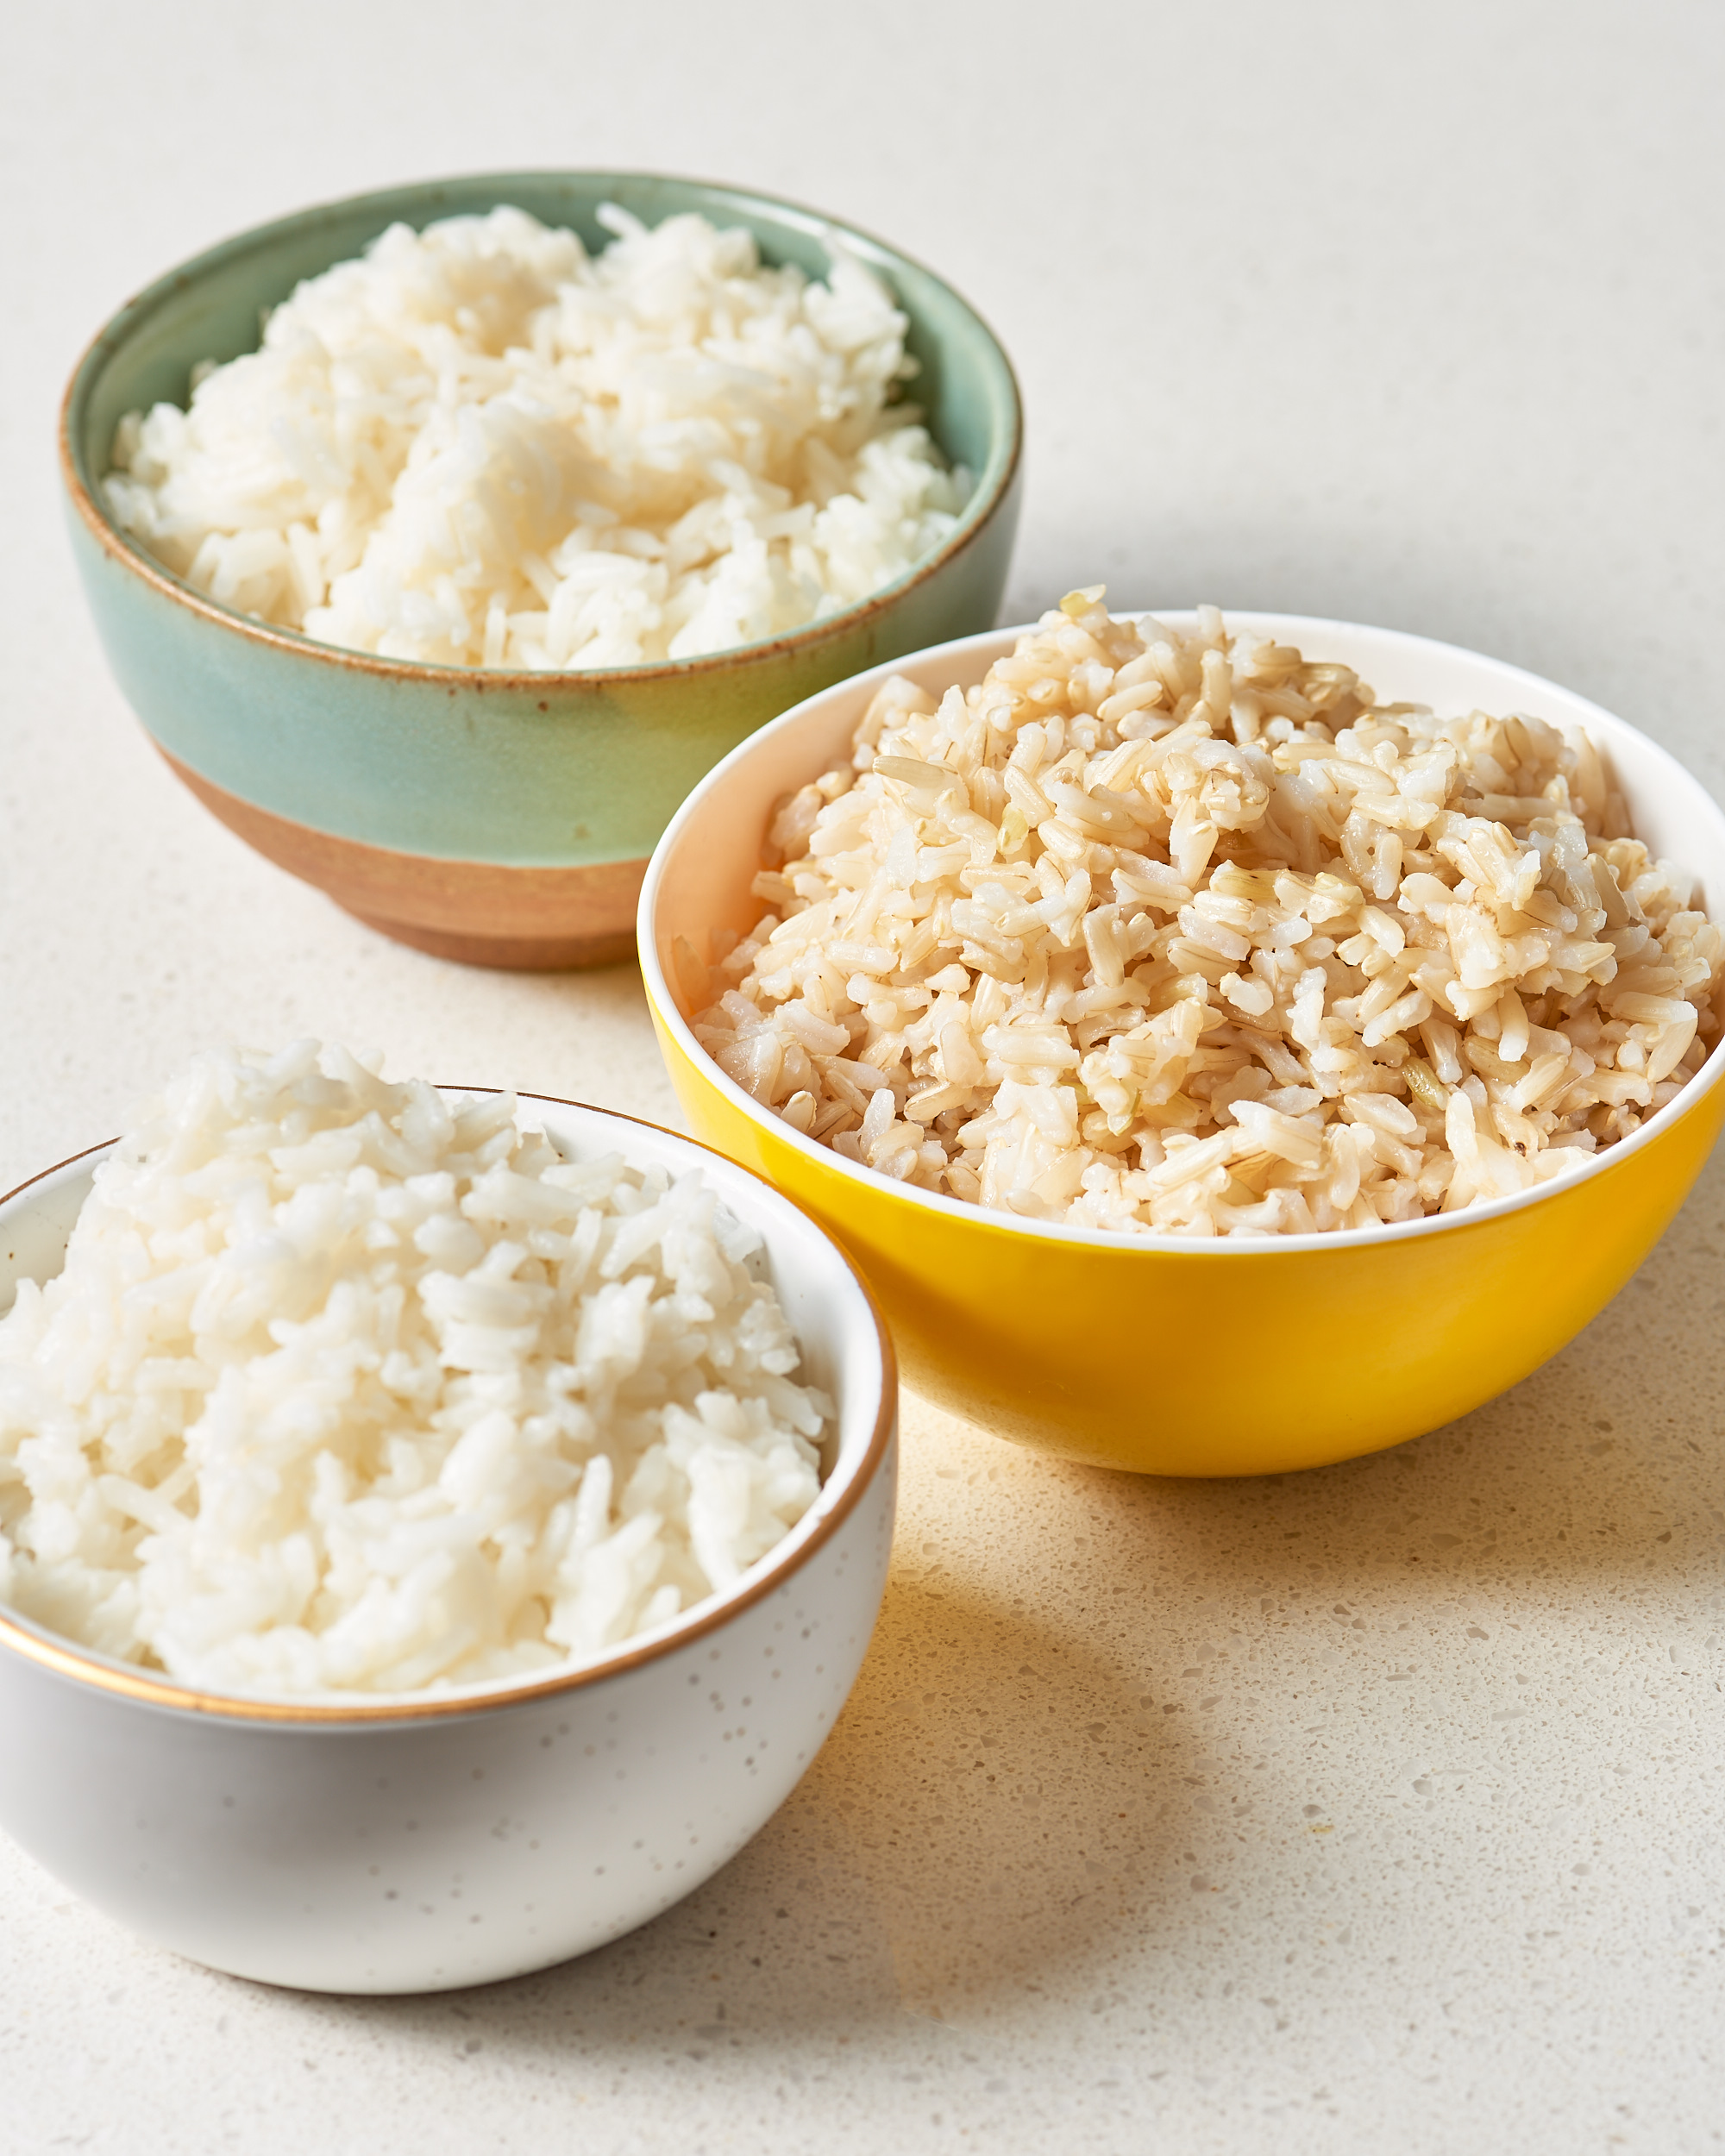rice: (901, 711, 1618, 1199), (30, 1142, 762, 1610), (234, 269, 813, 635)
